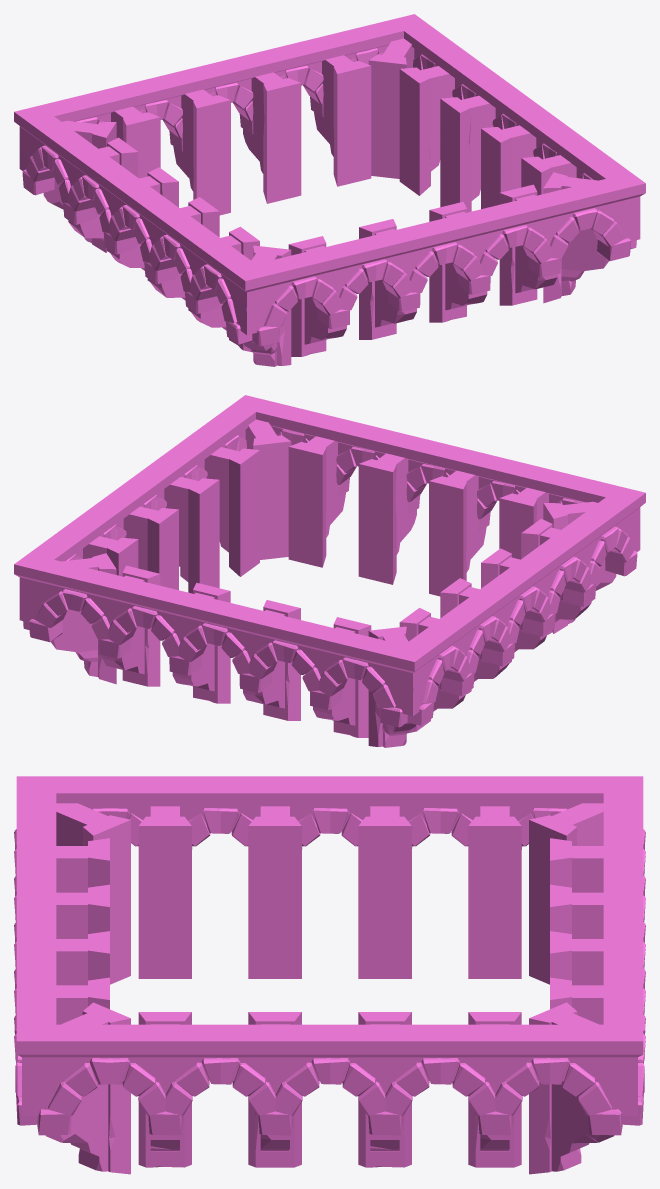
The model's file is SM_Tower_Square_6m_Machicolations_Fantasy.fbx.
3 views of the same model, one above another, from view 1: azimuth 30°, elevation 25°; view 2: azimuth 150°, elevation 25°; view 3: azimuth 270°, elevation 25° (orthographic). The views are drawn at different scales.
Visible parts, largest first — view 1: SM_Tower_Square_6m_Machicolations_Fantasy; view 2: SM_Tower_Square_6m_Machicolations_Fantasy; view 3: SM_Tower_Square_6m_Machicolations_Fantasy.
Part boxes in pixels (x1=…): SM_Tower_Square_6m_Machicolations_Fantasy: x1=14, y1=14, x2=645, y2=366; SM_Tower_Square_6m_Machicolations_Fantasy: x1=14, y1=395, x2=645, y2=747; SM_Tower_Square_6m_Machicolations_Fantasy: x1=14, y1=776, x2=645, y2=1174.
Size of the model in its own units: 8.62 by 2.5 by 8.62.
